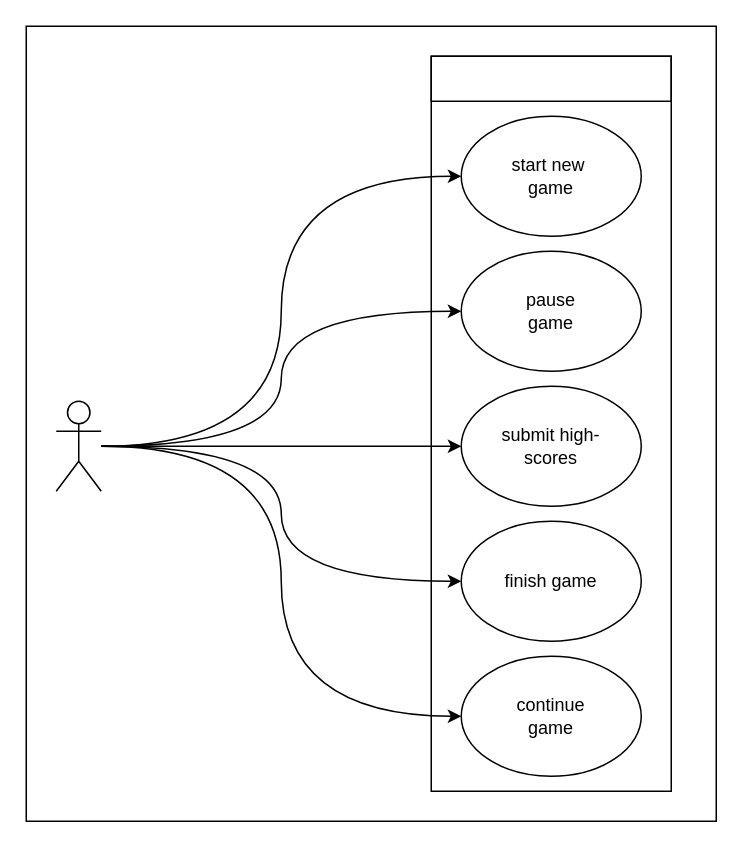
This 743x848 diagram has some shape labels left out. Here are the shapes that lost their labels. From the top down, the centre of each, then its label:
At pixel 550 78: "Game".
At pixel 78 445: "Player".
